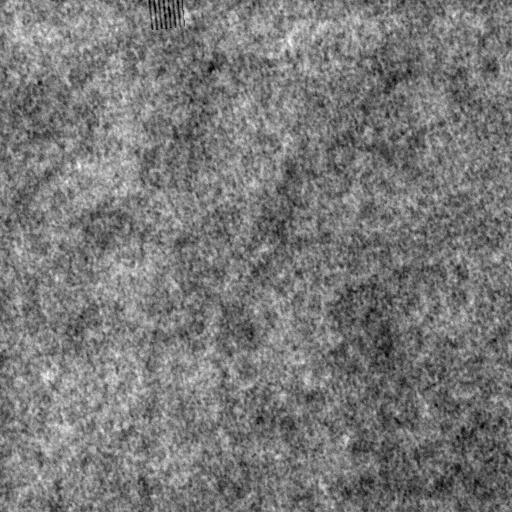impact: (146, 1, 188, 32)
